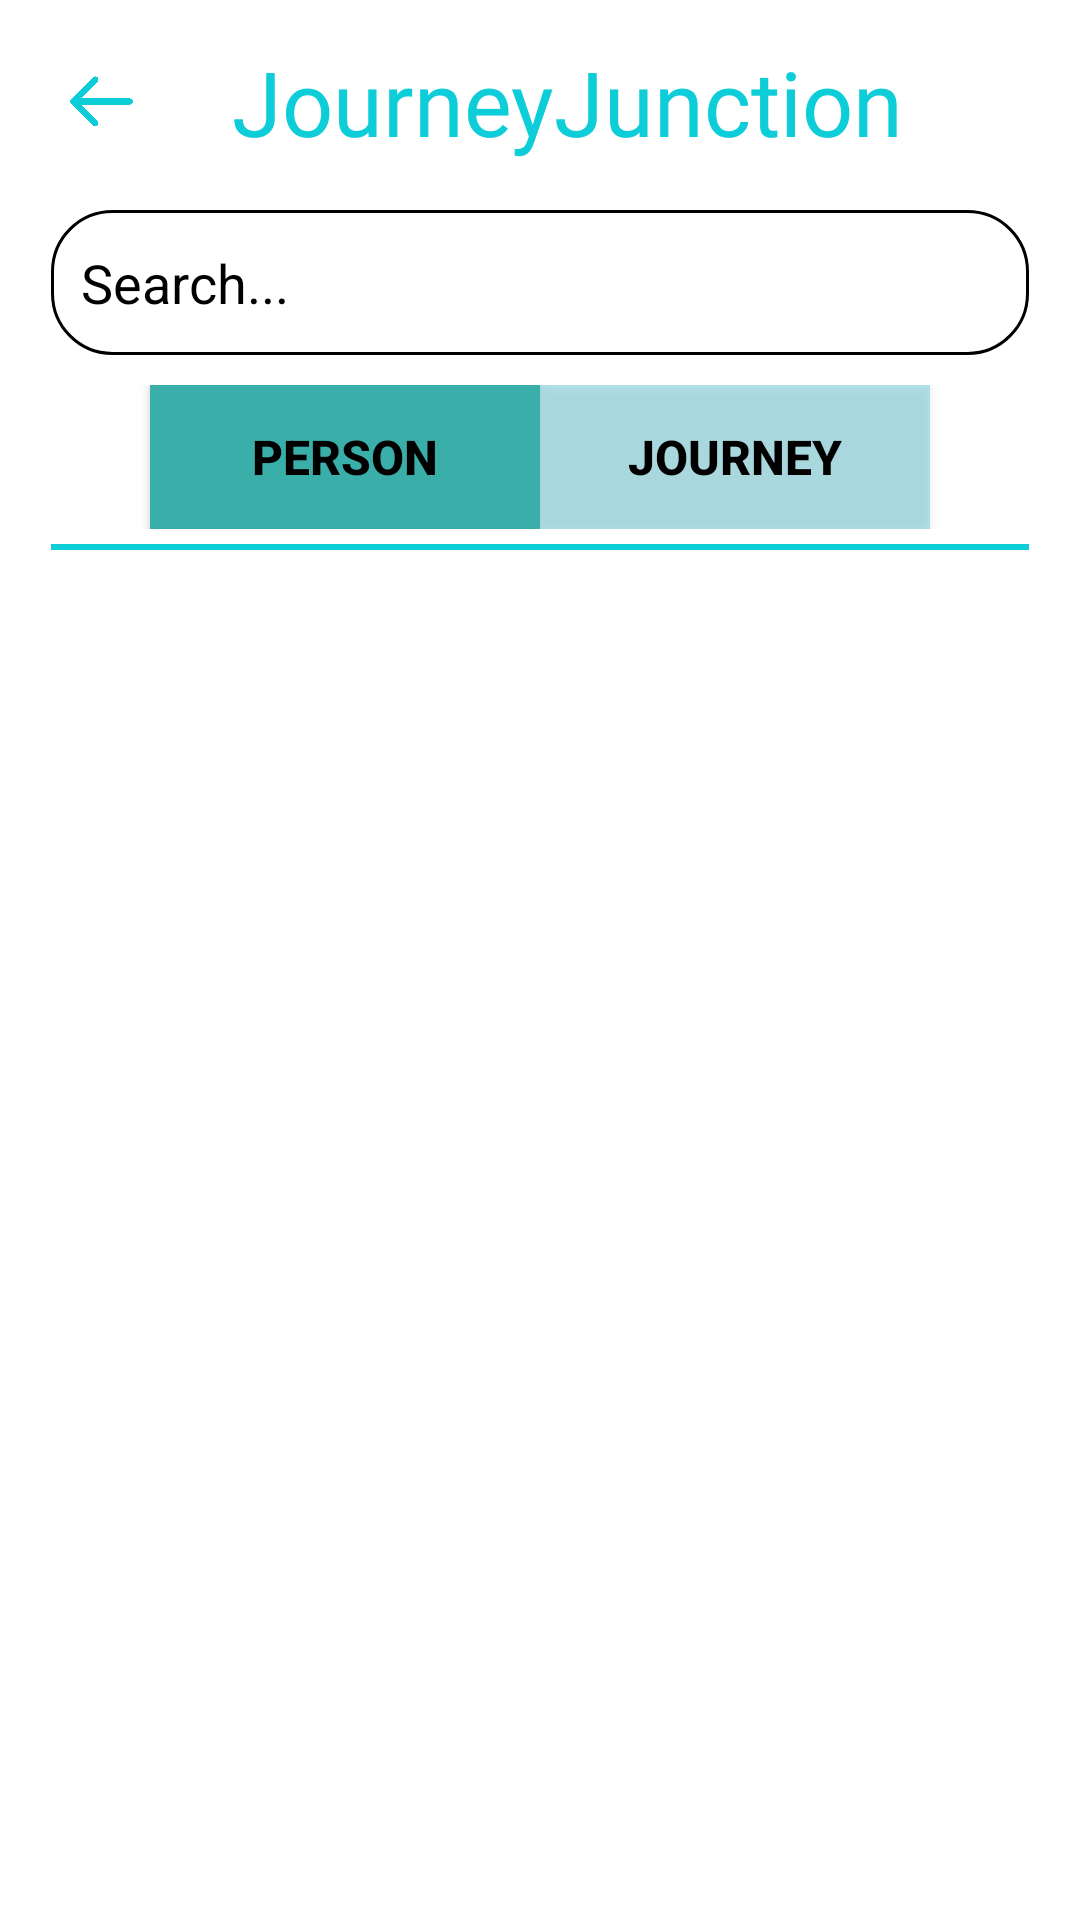

Screen size 1080 × 1920. Icon name, then its center in pixels as (x=x, y=y):
back left: (x=101, y=101)
